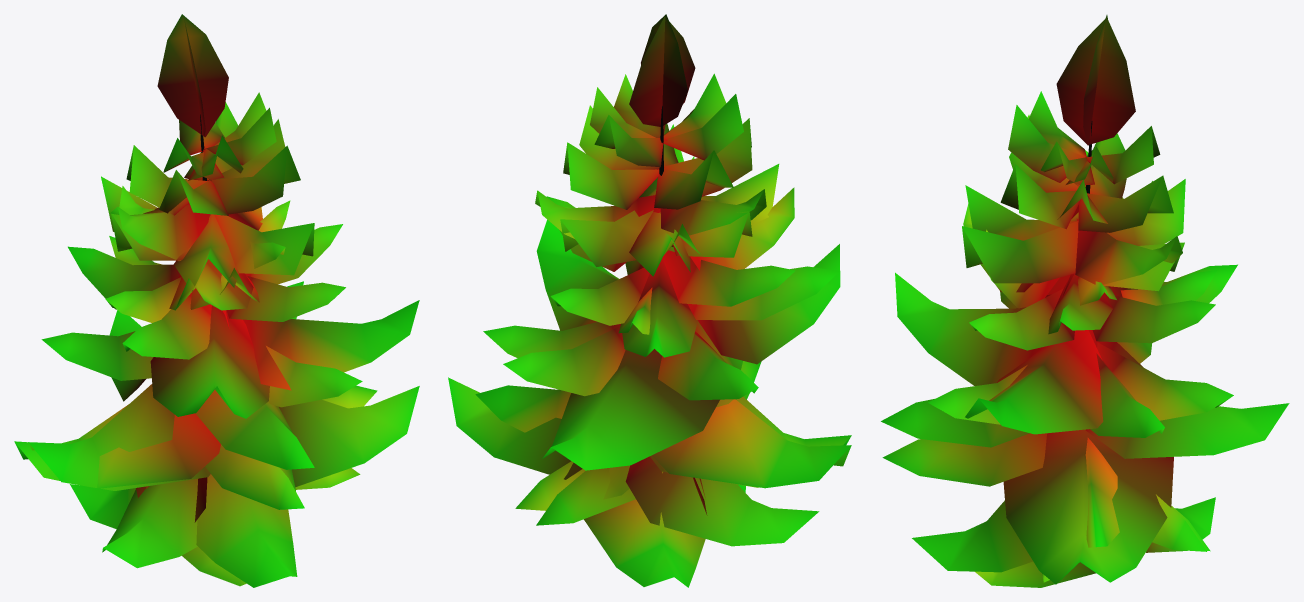
Rendered from Spruce_Small_4_LOD_1.fbx.
3 views of the same model, side by side, from view 1: azimuth 30°, elevation 25°; view 2: azimuth 150°, elevation 25°; view 3: azimuth 270°, elevation 25° (orthographic). The views are drawn at different scales.
Visible parts, largest first — view 1: Spruce_Small_4_LOD_1; view 2: Spruce_Small_4_LOD_1; view 3: Spruce_Small_4_LOD_1.
Part boxes in pixels (x1=…): Spruce_Small_4_LOD_1: x1=14, y1=14, x2=419, y2=587; Spruce_Small_4_LOD_1: x1=448, y1=14, x2=851, y2=587; Spruce_Small_4_LOD_1: x1=881, y1=15, x2=1289, y2=587.
Bounding box in the file's own units: 2.72 × 3.48 × 2.33.
